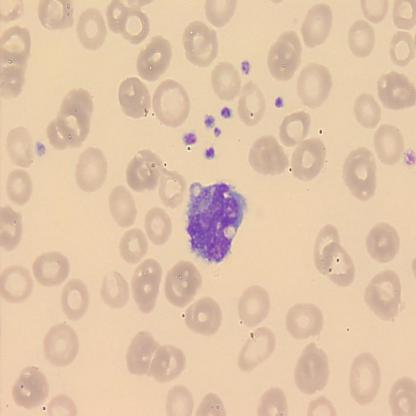Monocyte: (184, 179, 248, 267)
